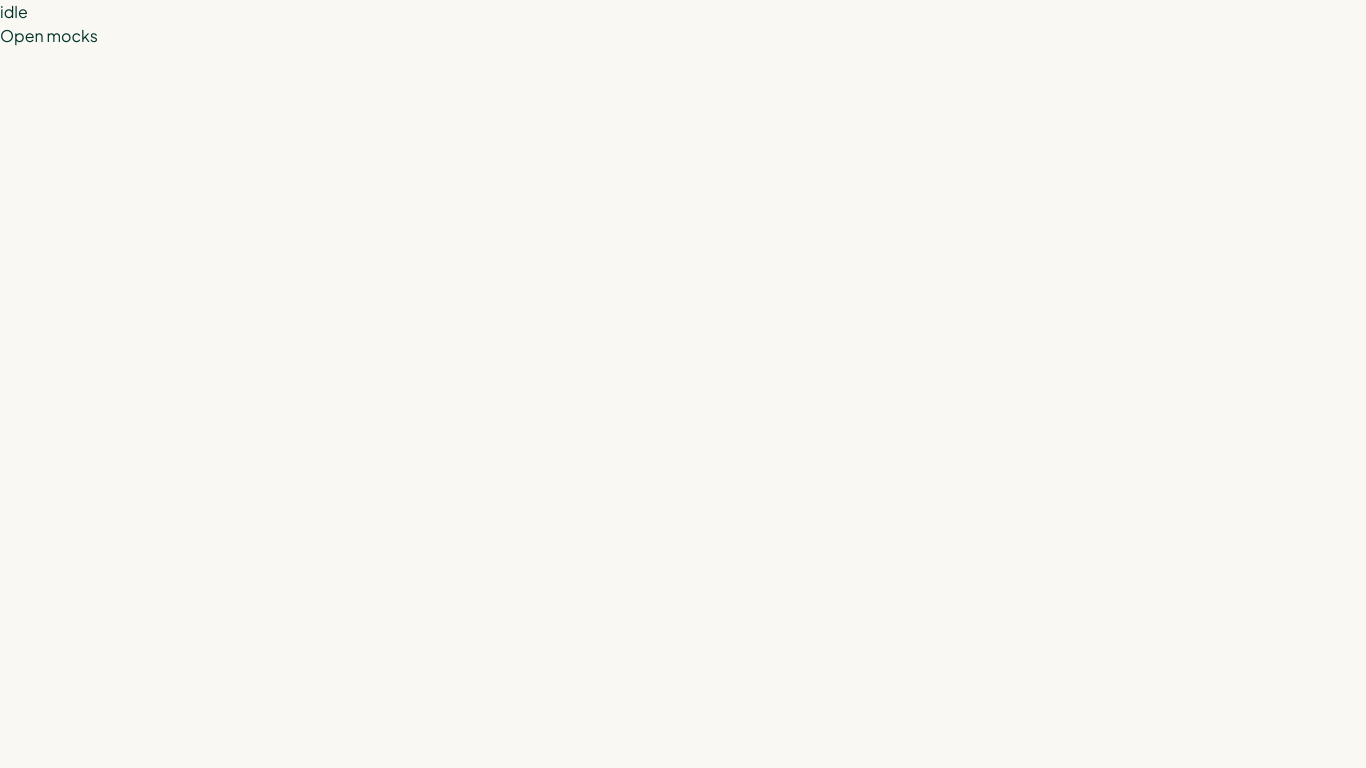
Test case: StudyNavLink › opens the shared overlay for in-app Soft Nav
This screenshot has width=1366, height=768.
Expected: the text "idle" is shown, [0,1,28,22]
Click the link "Open mocks": (49, 36) [0,25,98,46]
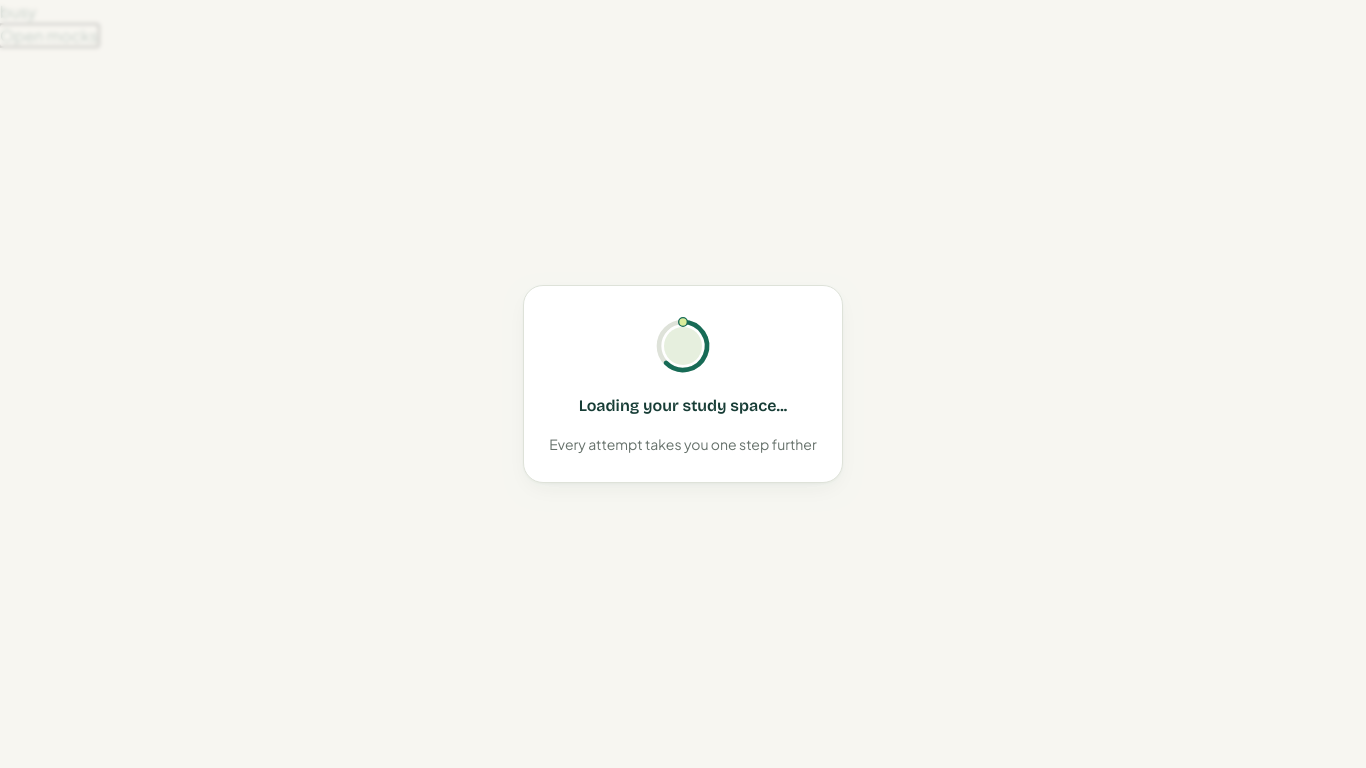
Expected: the text "busy" is shown, [0,1,36,22]
Expected: the dialog "Loading your study space..." is shown
Expected: the number of dialogs is 1
